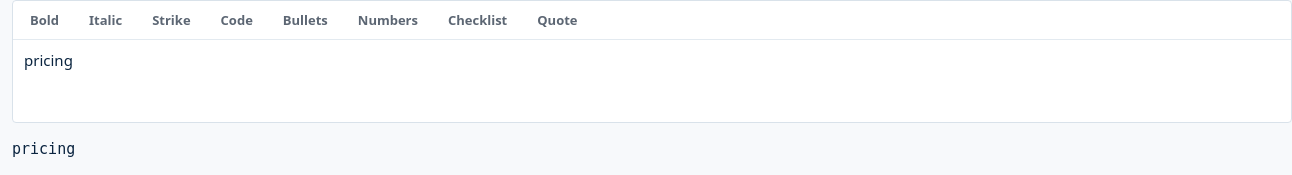
Test: the rich composer › formats the selection from the toolbar
What coordinates should you click on to do the following:
click the button "Bullets"
I would click on:
 (305, 20)
Its box is [270, 5, 341, 35].
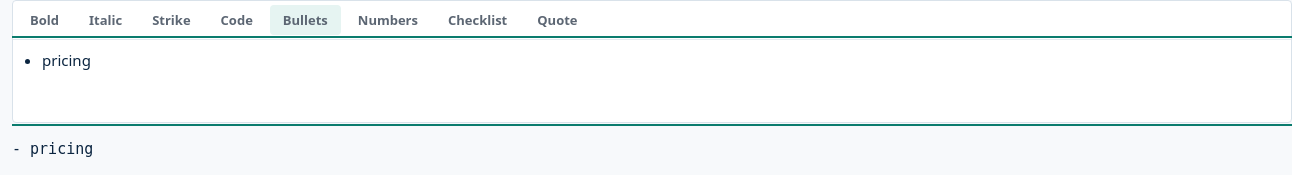
Expected: the text with test id "markdown" reads "- pricing", [12, 140, 93, 158]
